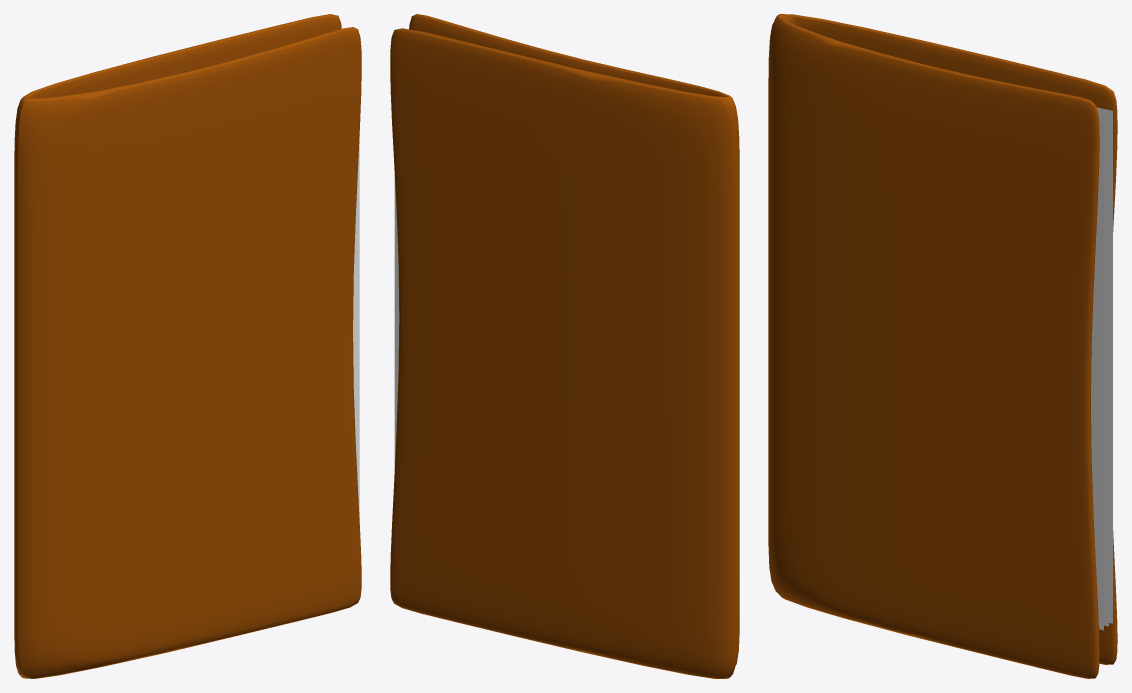
File: Fascicolo1.fbx
3 views of the same model, side by side, from view 1: azimuth 30°, elevation 25°; view 2: azimuth 150°, elevation 25°; view 3: azimuth 330°, elevation 25° (orthographic).
Parts seen in each view (by area): view 1: Copertina, Cube, Plane001; view 2: Cube, Copertina, Plane001; view 3: Copertina, Plane001, Cube.
Boxes of the visible parts, x1,y1,x2,y2 form: Copertina: (17,27,361,678); Cube: (14,14,341,678); Plane001: (353,137,359,517); Cube: (390,28,739,678); Copertina: (409,14,728,96); Plane001: (394,177,399,466); Copertina: (768,17,1099,678); Plane001: (1091,107,1112,630); Cube: (768,14,1117,664).
Size of the model in its own units: 23.45 by 38.47 by 2.77.
